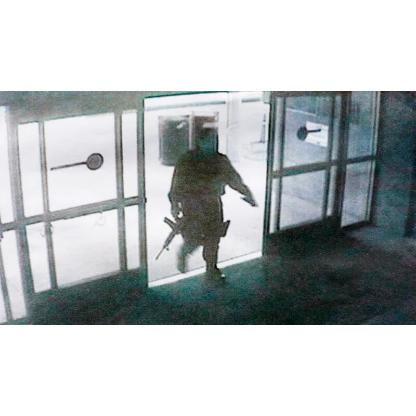gun: (152, 209, 196, 261)
